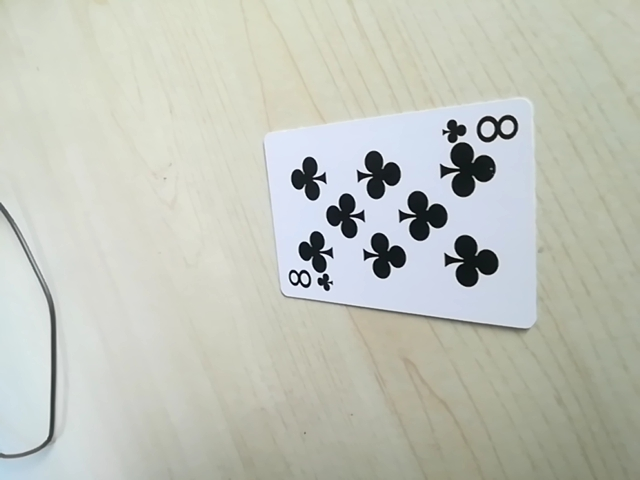mh 8: (443, 110, 520, 146), (281, 266, 335, 295)
